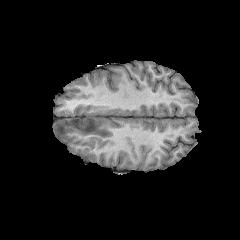glioma: (54, 118, 113, 139)
